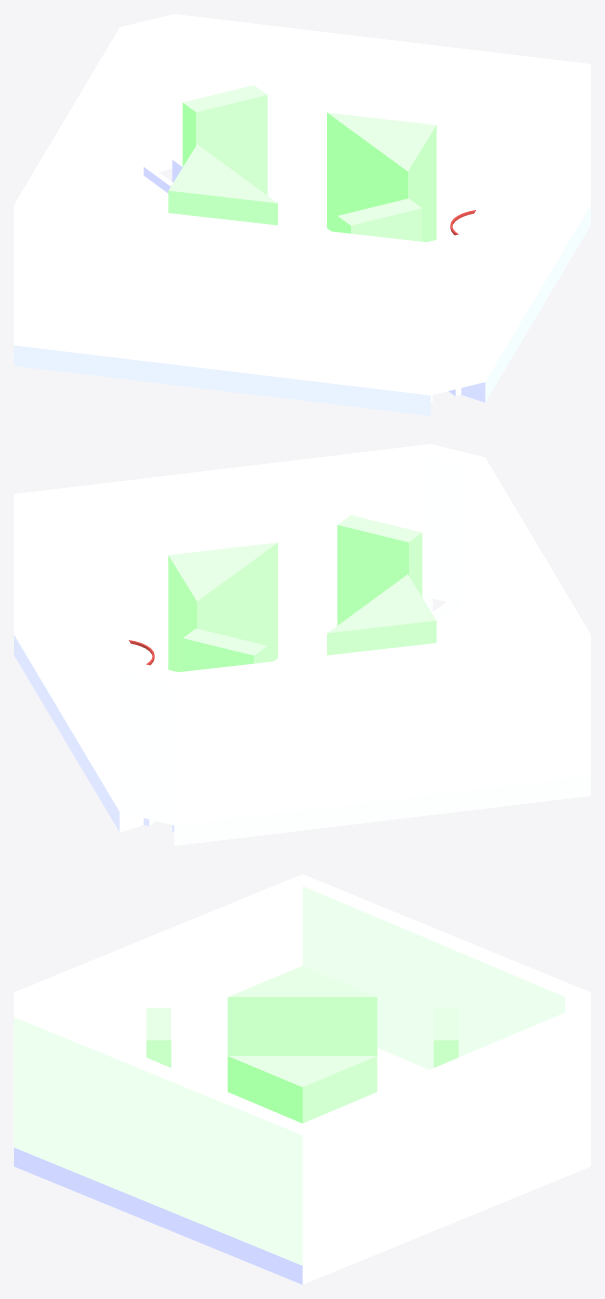
File: map_will-Mb.fbx
3 views of the same model, one above another, from view 1: azimuth 30°, elevation 25°; view 2: azimuth 150°, elevation 25°; view 3: azimuth 270°, elevation 25° (orthographic). The views are drawn at different scales.
Visible parts, largest first — view 1: Mb.002, Mb, Mb.003, Mb.001, Box; view 2: Mb.002, Mb, Mb.003, Mb.001, Box; view 3: Mb.002, Mb.003, Mb, Box, Mb.001.
Part boxes in pixels (box(x1,y1,x2,y2)): Mb.002: box(14, 14, 590, 395); Mb: box(14, 158, 590, 415); Mb.003: box(168, 112, 436, 242); Mb.001: box(120, 14, 485, 395); Box: box(182, 85, 422, 241); Mb.002: box(14, 444, 590, 825); Mb: box(14, 588, 590, 845); Mb.003: box(168, 542, 436, 672); Mb.001: box(119, 444, 484, 825); Box: box(182, 515, 422, 671); Mb.002: box(14, 874, 590, 1265); Mb.003: box(227, 966, 377, 1123); Mb: box(14, 1048, 590, 1284); Box: box(146, 1008, 458, 1067); Mb.001: box(14, 992, 590, 1016).
Bounding box in the file's own units: 443 × 118 × 413.
